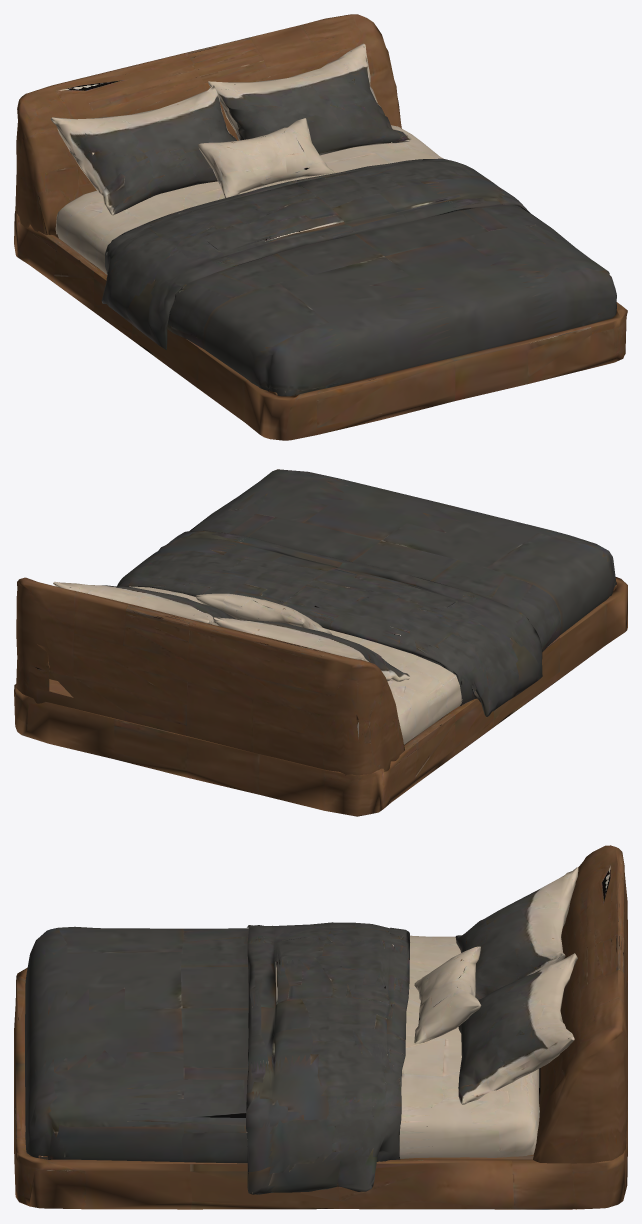
File: mobile.glb
The picture shows the model from 3 angles, top to bottom: view 1: azimuth 30°, elevation 25°; view 2: azimuth 150°, elevation 25°; view 3: azimuth 270°, elevation 25°; orthographic projection. The views are drawn at different scales.
Visible parts, largest first — view 1: bed; view 2: bed; view 3: bed.
Boxes of the visible parts, x1,y1,x2,y2 form: bed: (14,14,627,440); bed: (14,469,627,816); bed: (14,845,627,1209).
Size of the model in its own units: 1.52 by 0.5696 by 1.82.
Materials: 1 (1 with a texture image).
